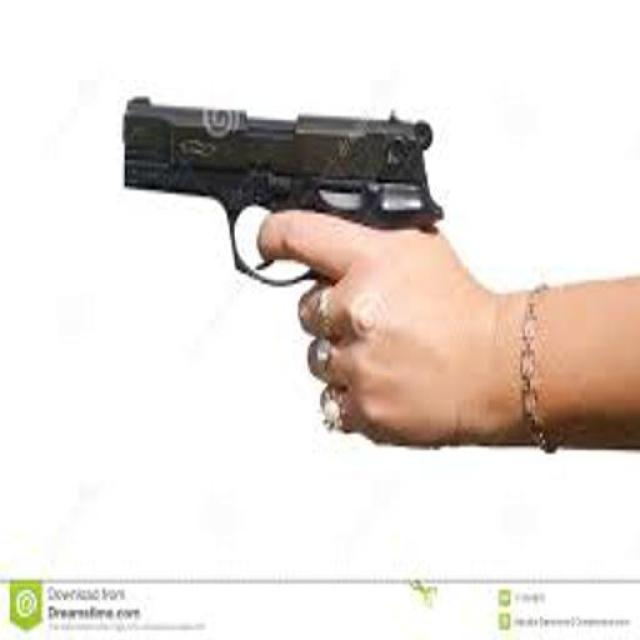pistol: (119, 70, 451, 456)
